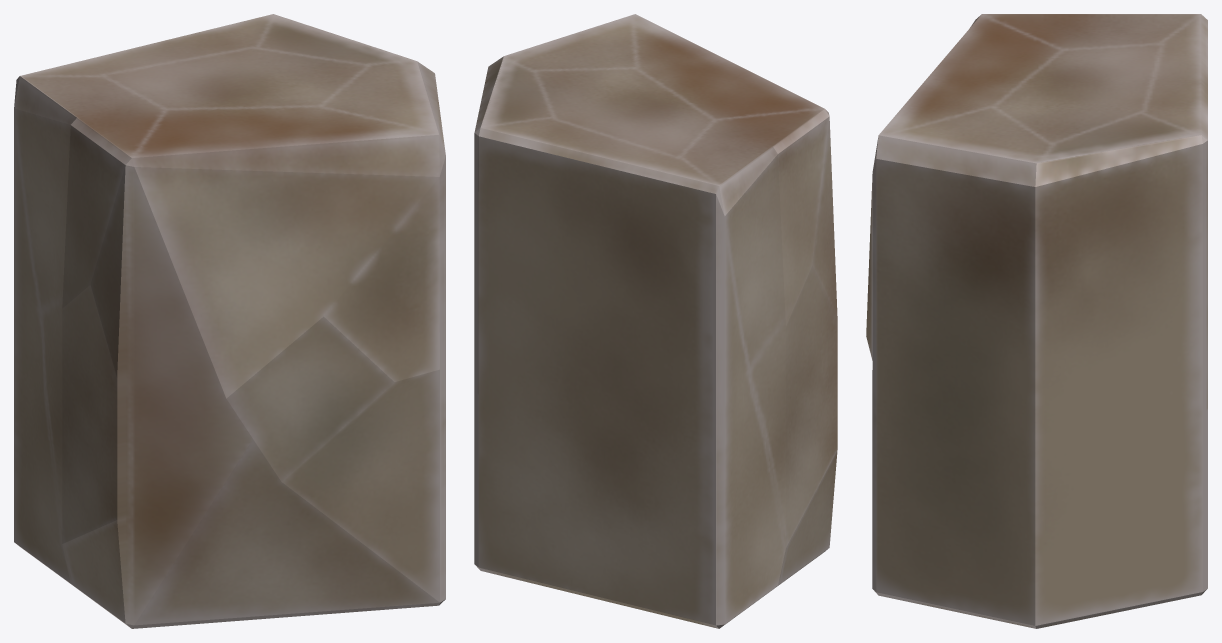
The model's file is rock wall 2.fbx.
The picture shows the model from 3 angles, left to right: view 1: azimuth 30°, elevation 25°; view 2: azimuth 150°, elevation 25°; view 3: azimuth 270°, elevation 25°; orthographic projection. The views are drawn at different scales.
Parts seen in each view (by area): view 1: polySurface407; view 2: polySurface407; view 3: polySurface407.
Part boxes in pixels (box(x1,y1,x2,y2)): polySurface407: box(14, 14, 445, 628); polySurface407: box(474, 14, 837, 628); polySurface407: box(866, 14, 1207, 628).
Bounding box in the file's own units: 5.03 × 6.57 × 4.42.
1 material, 1 textured.
